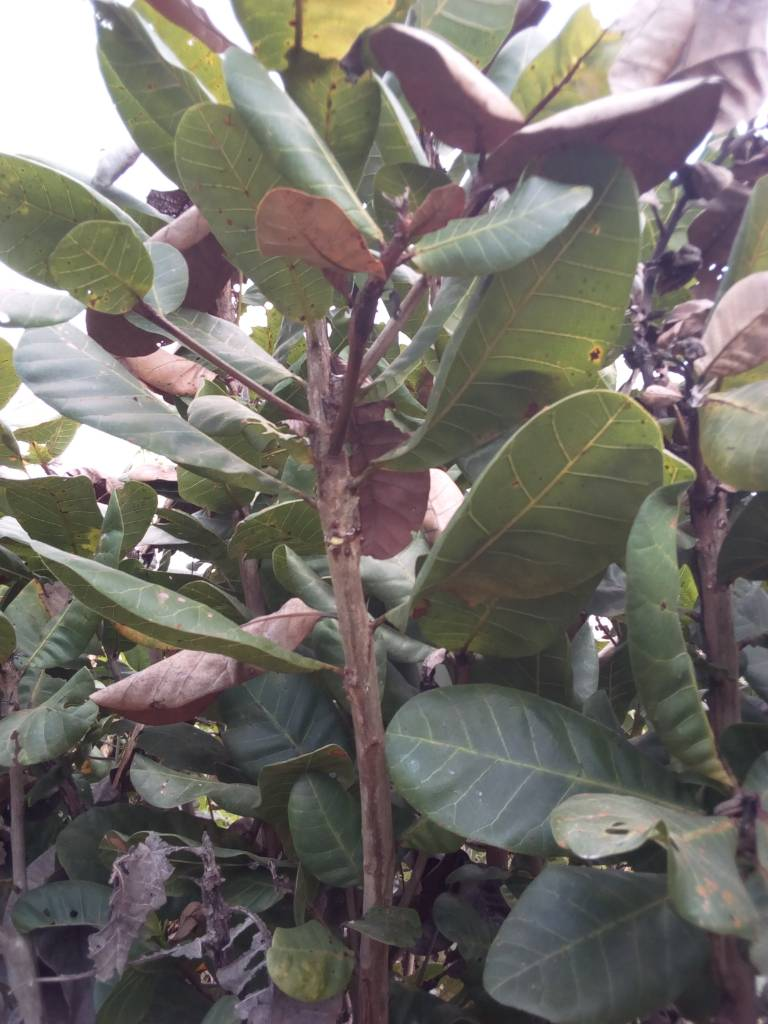Dessèchement des bourgeons: (104, 832, 240, 961), (643, 244, 704, 391)
